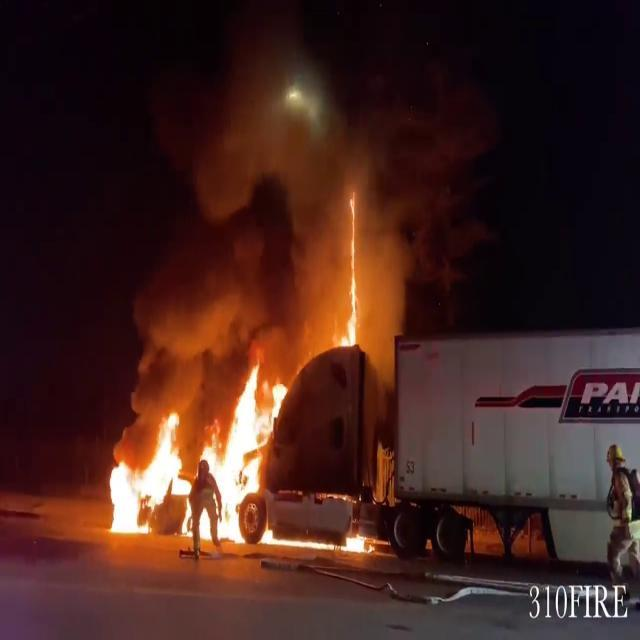Fire: (96, 352, 292, 548), (332, 204, 375, 358)
Smoke: (110, 13, 507, 334)
